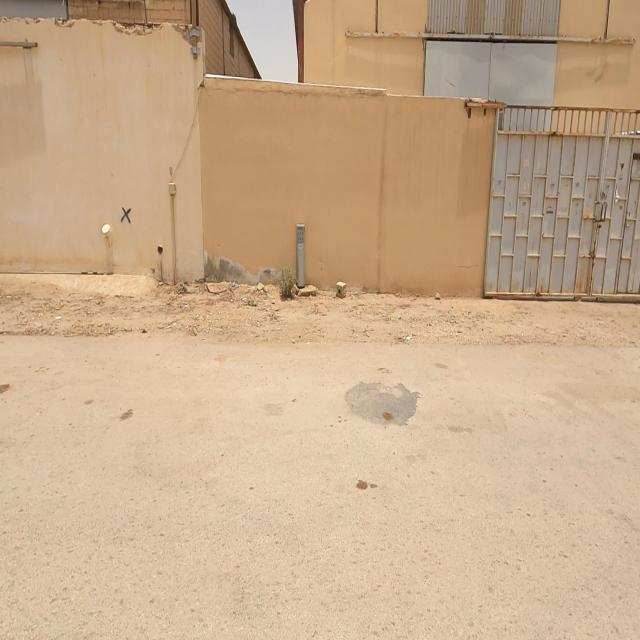Graffiti: (119, 208, 134, 226)
